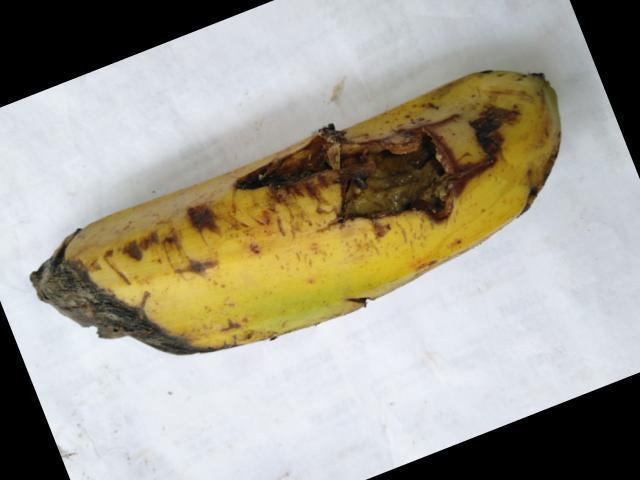rotten: (213, 80, 506, 269), (23, 194, 212, 396)
